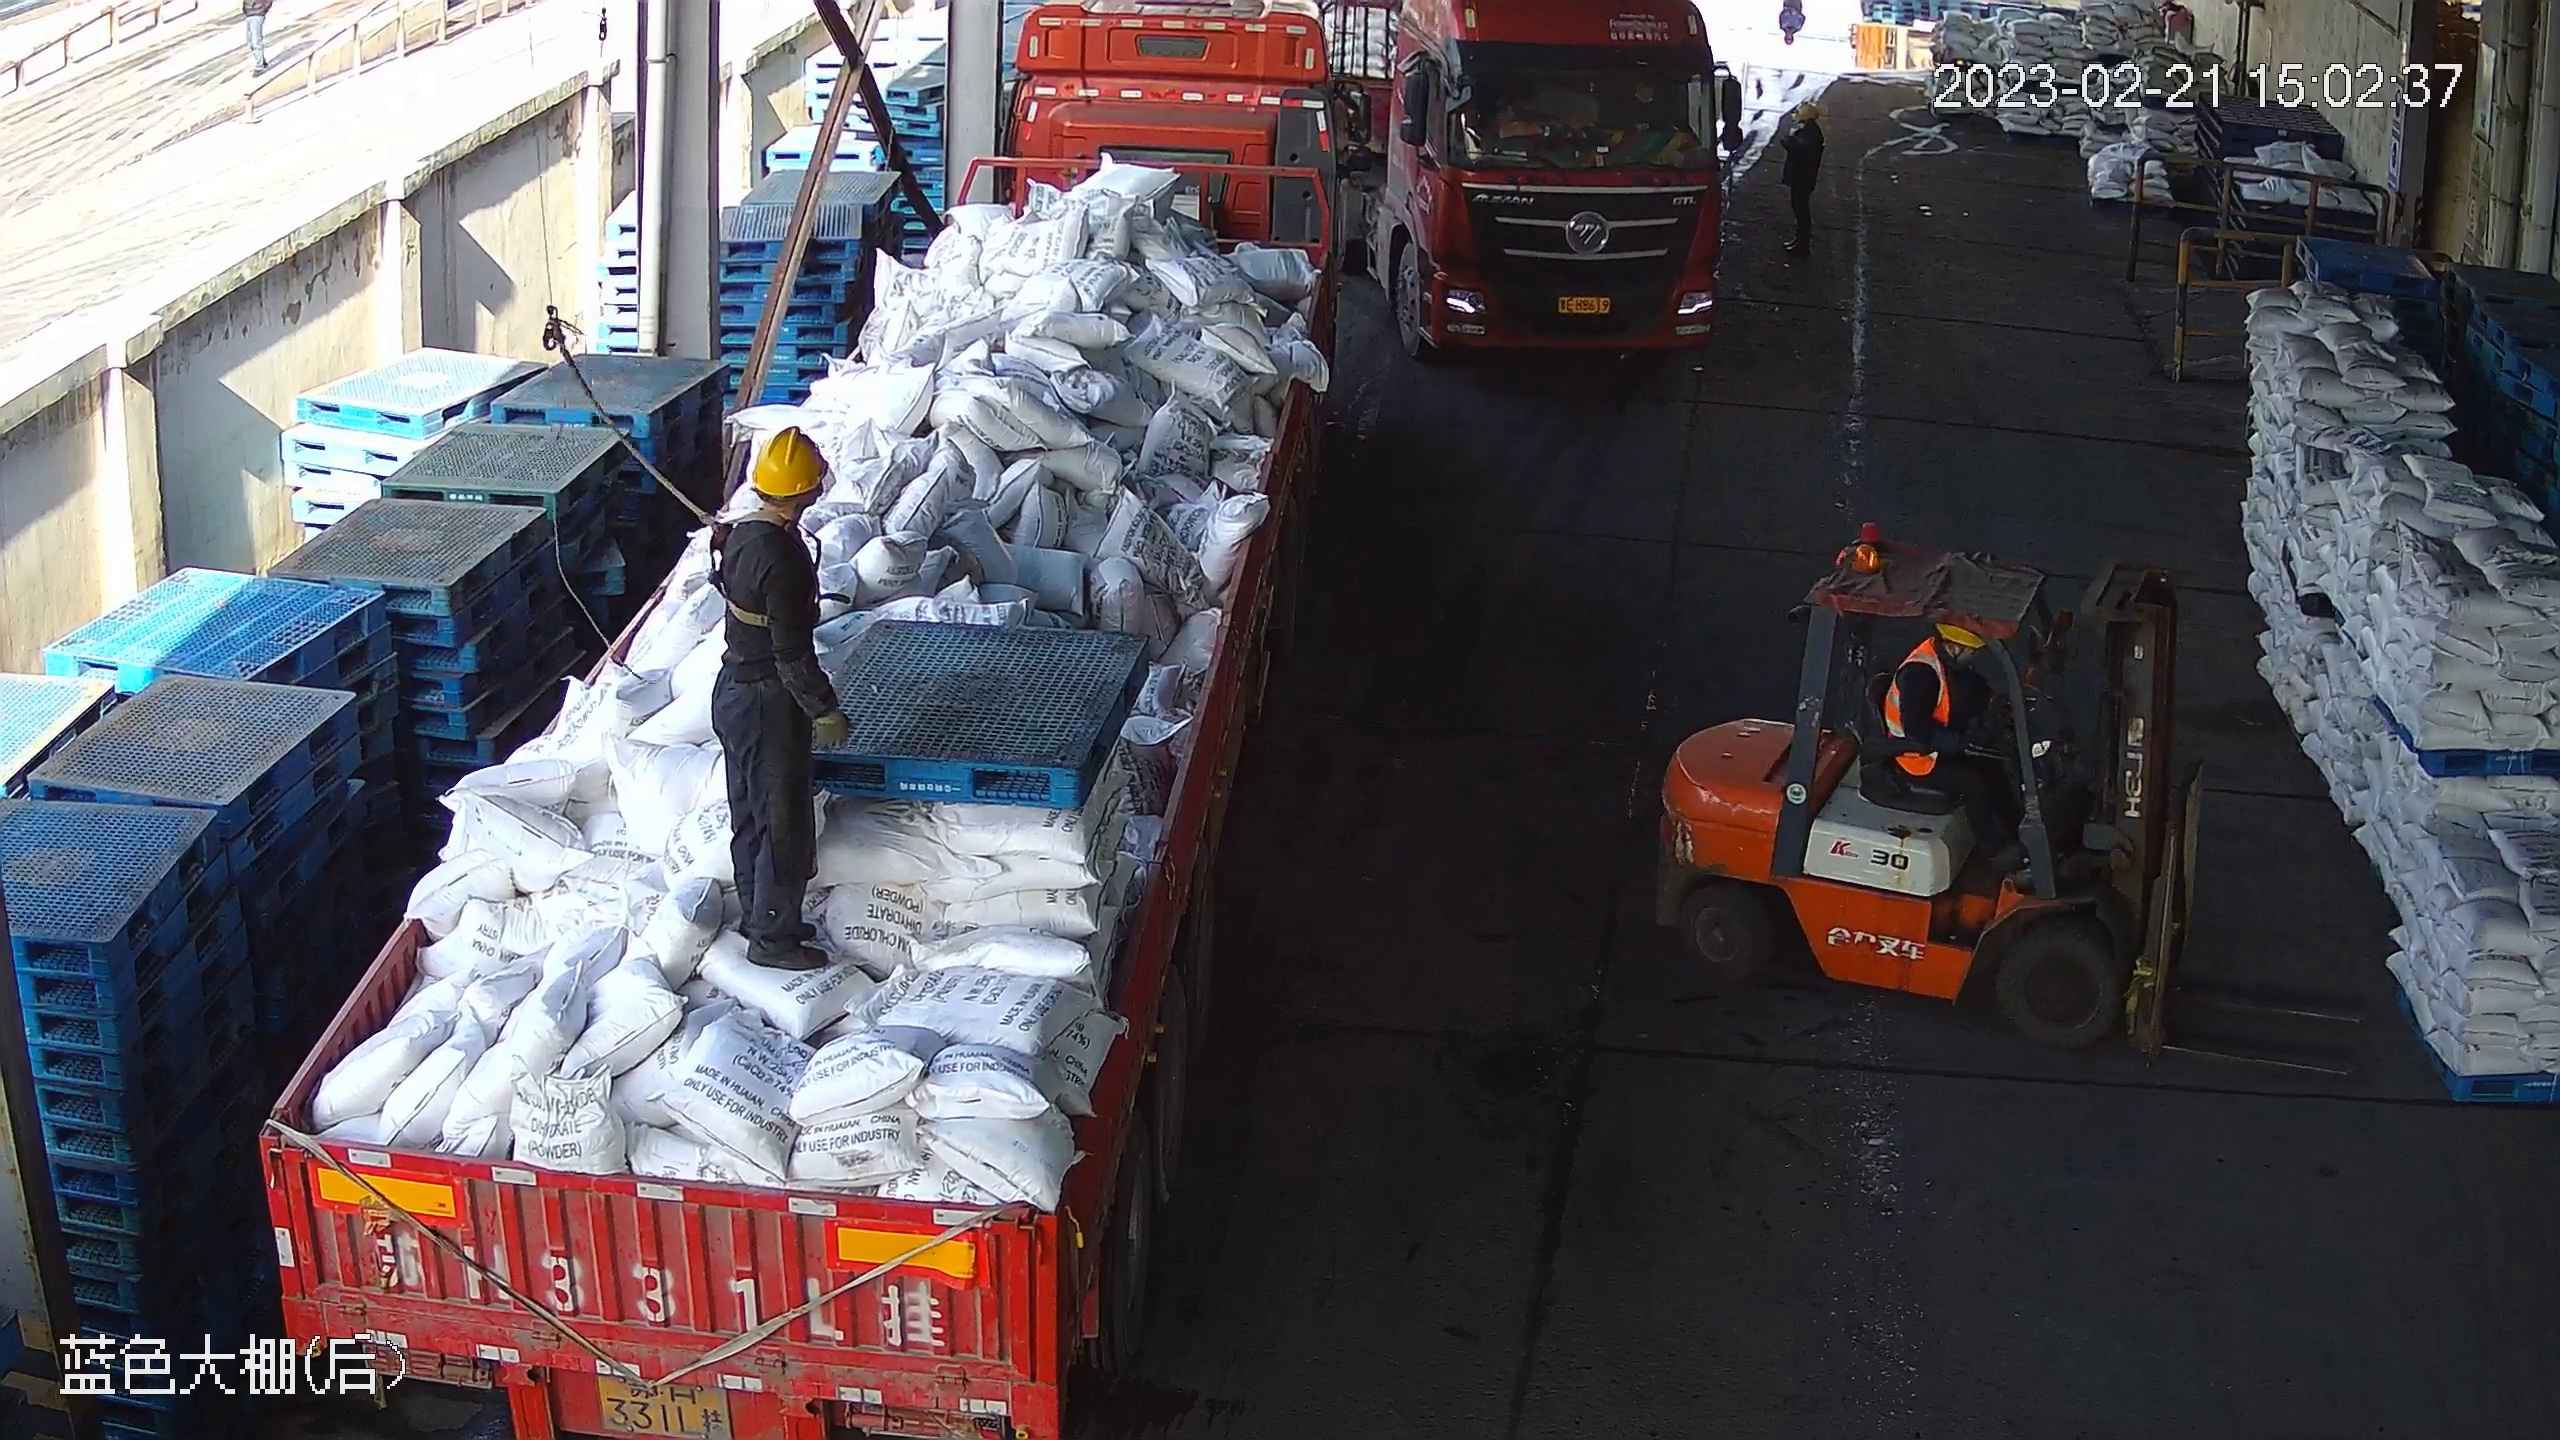belt: (700, 501, 795, 629)
head: (730, 427, 832, 578), (1906, 623, 1995, 692)
helmet: (749, 430, 832, 493)
people: (700, 422, 855, 972), (1879, 620, 2034, 850)
truck: (244, 2, 1337, 1440), (1344, 1, 1763, 376)
